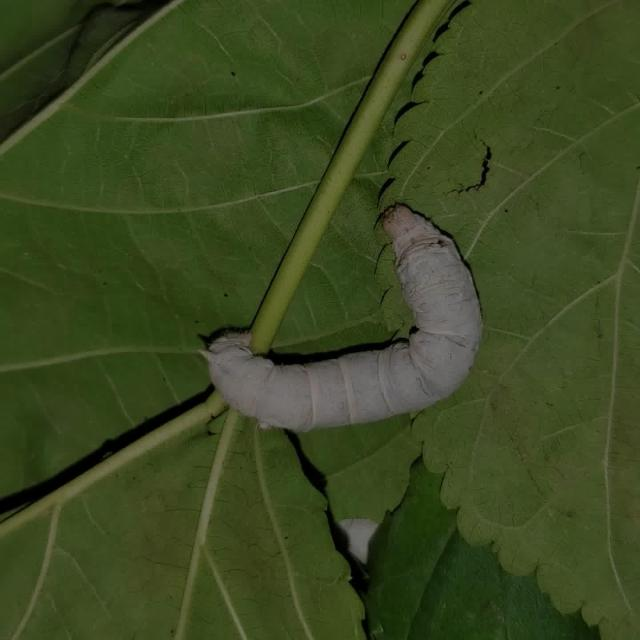Healthy: (193, 197, 489, 440)
